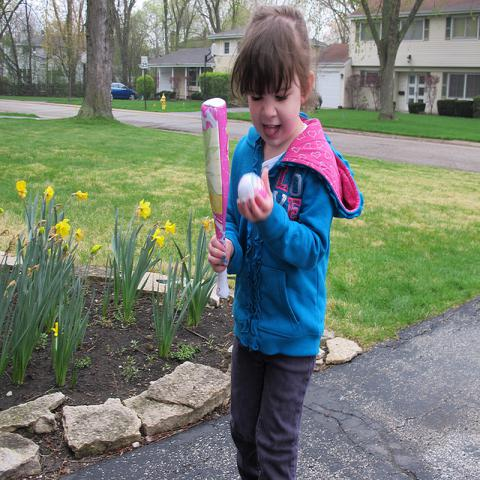car: (111, 83, 138, 100)
